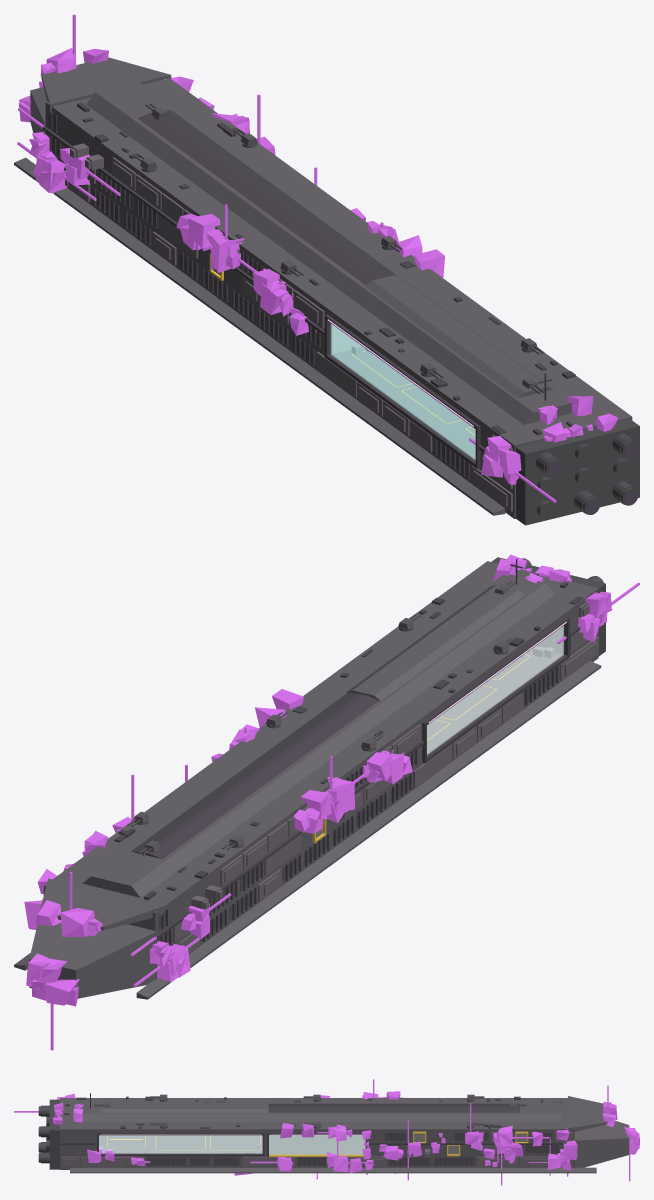
File: ship_LARGE_v1.glb
3 renders of one model, top to bottom at view 1: azimuth 30°, elevation 25°; view 2: azimuth 150°, elevation 25°; view 3: azimuth 270°, elevation 25°, orthographic. The views are drawn at different scales.
Visible parts, largest first — view 1: LARGE_Hull-col, LARGE_Trim, LARGE_Growth, LARGE_Engines, LARGE_Armor, LARGE_HangarShield_Port, LARGE_Decks-col, LARGE_Accent, LARGE_Details; view 2: LARGE_Hull-col, LARGE_Growth, LARGE_Trim, LARGE_Armor, LARGE_HangarShield_Port, LARGE_Decks-col, LARGE_Accent, LARGE_Details, LARGE_Engines; view 3: LARGE_Hull-col, LARGE_Growth, LARGE_Trim, LARGE_HangarShield_Starboard, LARGE_Decks-col, LARGE_Accent, LARGE_Armor, LARGE_CargoBayShield, LARGE_CargoBayDoor-col, LARGE_Engines, LARGE_Hazard, LARGE_Details (+1 smaller).
Boxes of the visible parts, x1=… form: LARGE_Hull-col: x1=14, y1=57, x2=632, y2=518; LARGE_Trim: x1=43, y1=110, x2=485, y2=479; LARGE_Growth: x1=17, y1=14, x2=618, y2=502; LARGE_Engines: x1=516, y1=419, x2=639, y2=525; LARGE_Armor: x1=62, y1=144, x2=512, y2=511; LARGE_HangarShield_Port: x1=331, y1=324, x2=475, y2=459; LARGE_Decks-col: x1=333, y1=347, x2=475, y2=458; LARGE_Accent: x1=48, y1=111, x2=470, y2=477; LARGE_Details: x1=77, y1=102, x2=575, y2=435; LARGE_Hull-col: x1=14, y1=561, x2=601, y2=999; LARGE_Growth: x1=24, y1=554, x2=639, y2=1050; LARGE_Trim: x1=131, y1=617, x2=580, y2=944; LARGE_Armor: x1=43, y1=602, x2=598, y2=953; LARGE_HangarShield_Port: x1=427, y1=626, x2=563, y2=754; LARGE_Decks-col: x1=427, y1=648, x2=561, y2=753; LARGE_Accent: x1=157, y1=668, x2=556, y2=972; LARGE_Details: x1=114, y1=558, x2=583, y2=899; LARGE_Engines: x1=58, y1=557, x2=605, y2=980; LARGE_Hull-col: x1=60, y1=1096, x2=629, y2=1173; LARGE_Growth: x1=14, y1=1079, x2=639, y2=1185; LARGE_Trim: x1=60, y1=1103, x2=565, y2=1166; LARGE_HangarShield_Starboard: x1=99, y1=1135, x2=262, y2=1153; LARGE_Decks-col: x1=99, y1=1135, x2=262, y2=1152; LARGE_Accent: x1=147, y1=1133, x2=559, y2=1165; LARGE_Armor: x1=61, y1=1132, x2=572, y2=1166; LARGE_CargoBayShield: x1=269, y1=1135, x2=365, y2=1154; LARGE_CargoBayDoor-col: x1=269, y1=1135, x2=365, y2=1154; LARGE_Engines: x1=39, y1=1099, x2=59, y2=1169; LARGE_Hazard: x1=107, y1=1131, x2=528, y2=1156; LARGE_Details: x1=63, y1=1093, x2=561, y2=1128.
Size of the model in its own units: 31.42 by 30.78 by 184.
